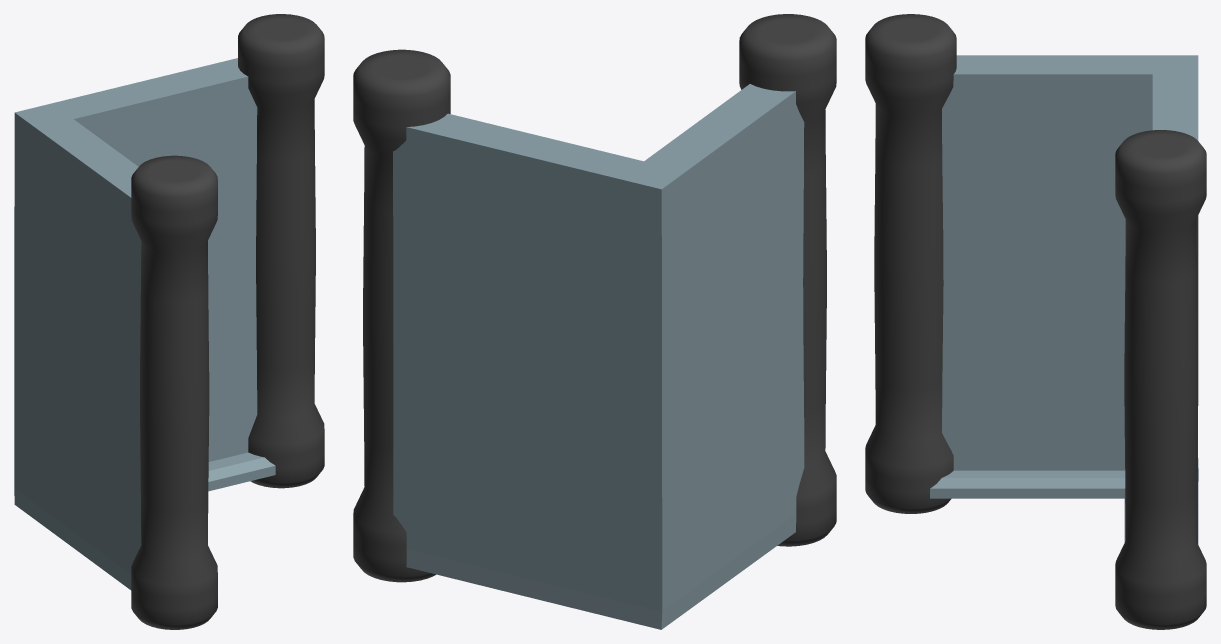
Rendered from small wall corner 2 pillars.fbx.
3 renders of one model, left to right at view 1: azimuth 30°, elevation 25°; view 2: azimuth 150°, elevation 25°; view 3: azimuth 270°, elevation 25°, orthographic. The views are drawn at different scales.
Visible parts, largest first — view 1: Corner_wall_small_2_pillar; view 2: Corner_wall_small_2_pillar; view 3: Corner_wall_small_2_pillar.
Boxes of the visible parts, x1,y1,x2,y2 form: Corner_wall_small_2_pillar: [14, 14, 324, 629]; Corner_wall_small_2_pillar: [353, 14, 836, 629]; Corner_wall_small_2_pillar: [865, 14, 1206, 629].
Bounding box in the file's own units: 626 × 881 × 584.
